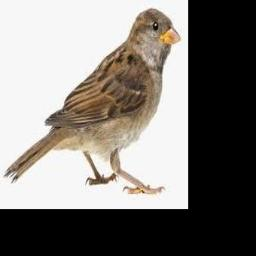Sparrow: (4, 8, 181, 194)
